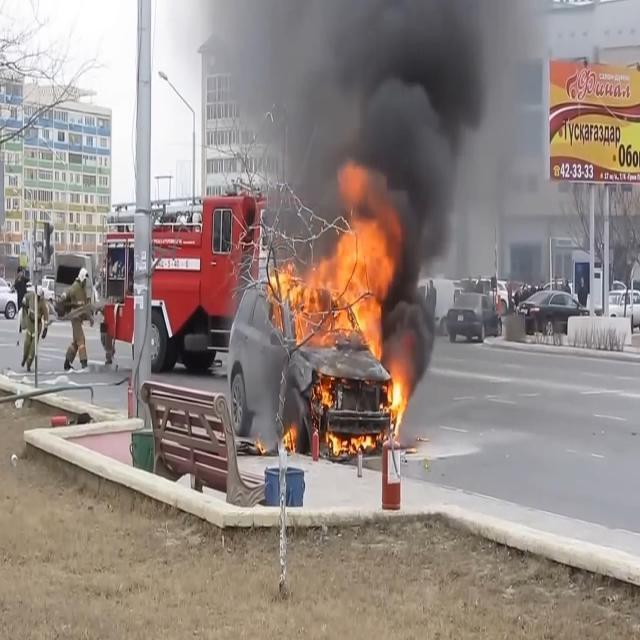fire: (252, 156, 417, 478)
